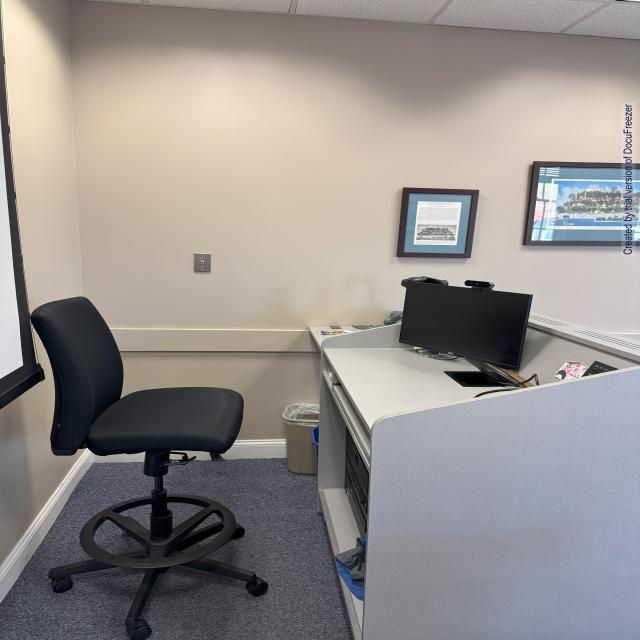Table: (324, 328, 639, 640)
chair: (27, 297, 271, 631)
